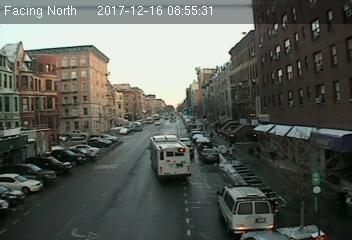bus: (148, 135, 192, 181)
car: (200, 148, 220, 162)
police: (216, 182, 279, 236)
